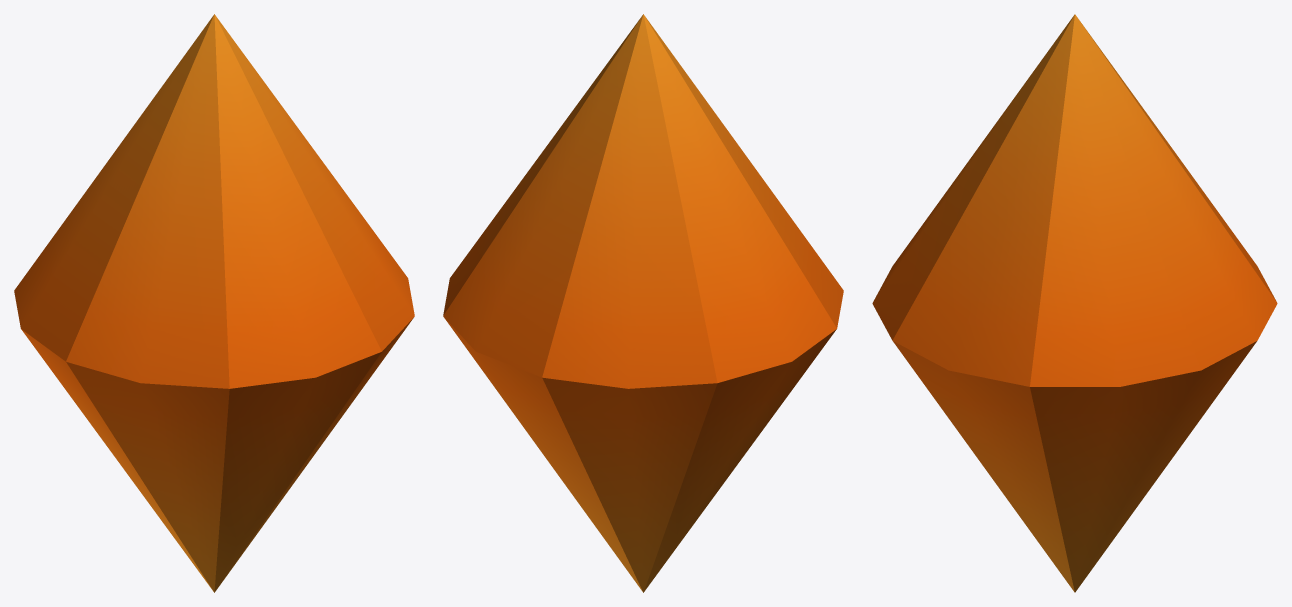
Rendered from Diamond_V3_2.fbx.
3 renders of one model, left to right at view 1: azimuth 30°, elevation 25°; view 2: azimuth 150°, elevation 25°; view 3: azimuth 270°, elevation 25°, orthographic.
Visible parts, largest first — view 1: Diamond_V3_2; view 2: Diamond_V3_2; view 3: Diamond_V3_2.
Boxes of the visible parts, x1=… form: Diamond_V3_2: x1=14, y1=14, x2=414, y2=592; Diamond_V3_2: x1=443, y1=14, x2=843, y2=592; Diamond_V3_2: x1=872, y1=14, x2=1277, y2=592.
Size of the model in its own units: 0.3373 by 0.5453 by 0.346.
